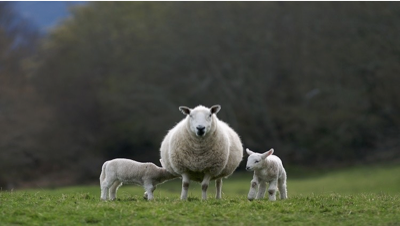koyun: (160, 100, 243, 203), (99, 157, 166, 201), (245, 147, 288, 202)
